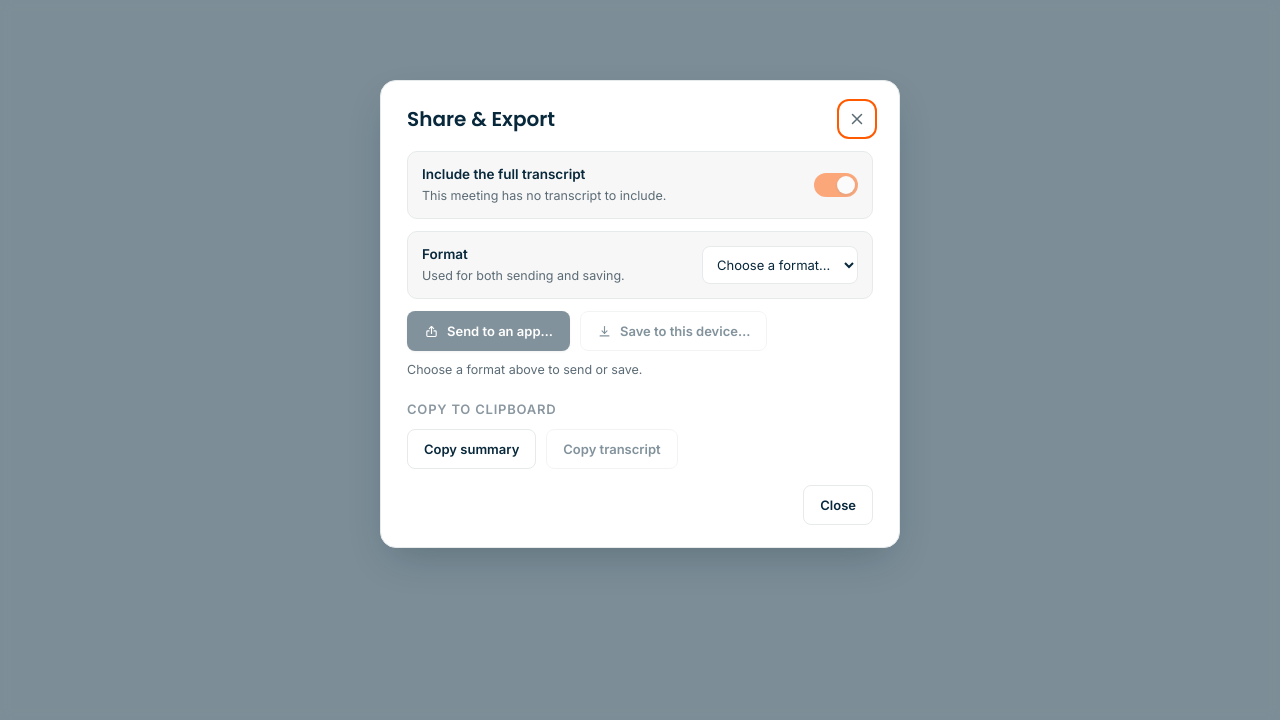
Test case: ShareModal destinations › still offers both with a summary but no transcript
Select "PDF (.pdf)" in the dropdown labelled "Format" at (780, 265), box [702,246,858,284]
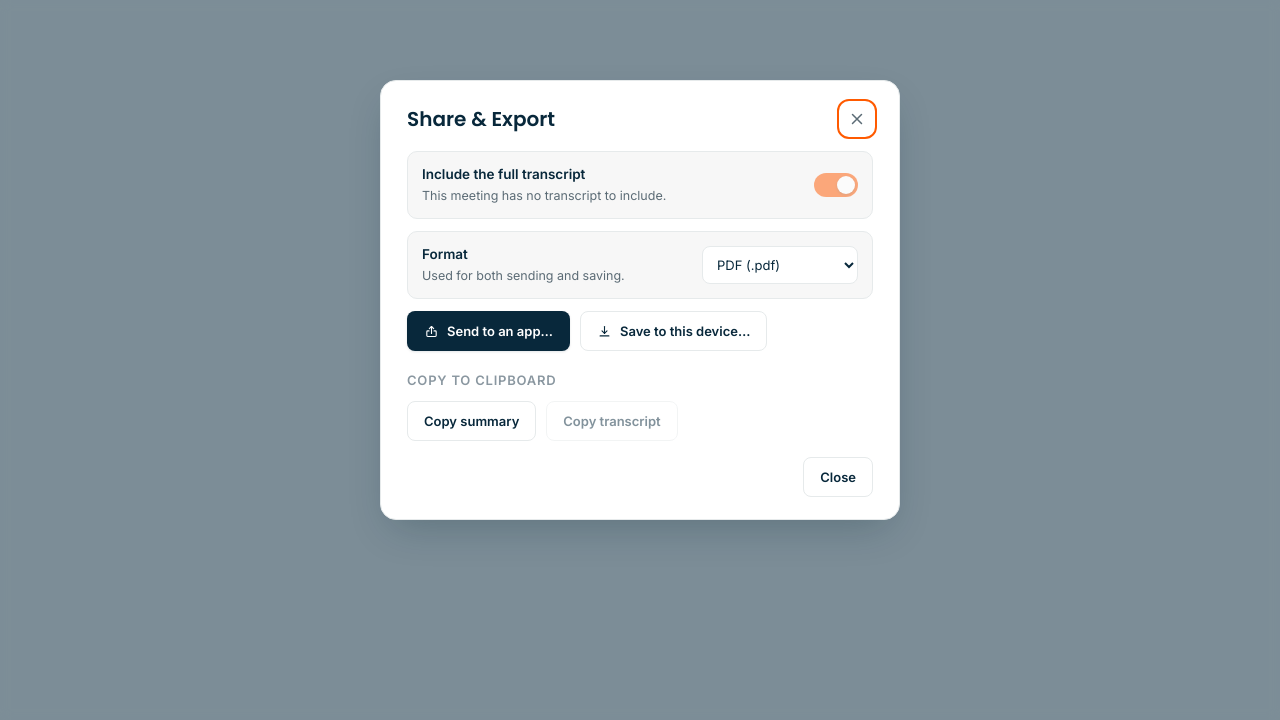
Result: the button "Send to an app…" is enabled at [407,311,570,351]
Result: the button "Save to this device…" is enabled at [580,311,767,351]
